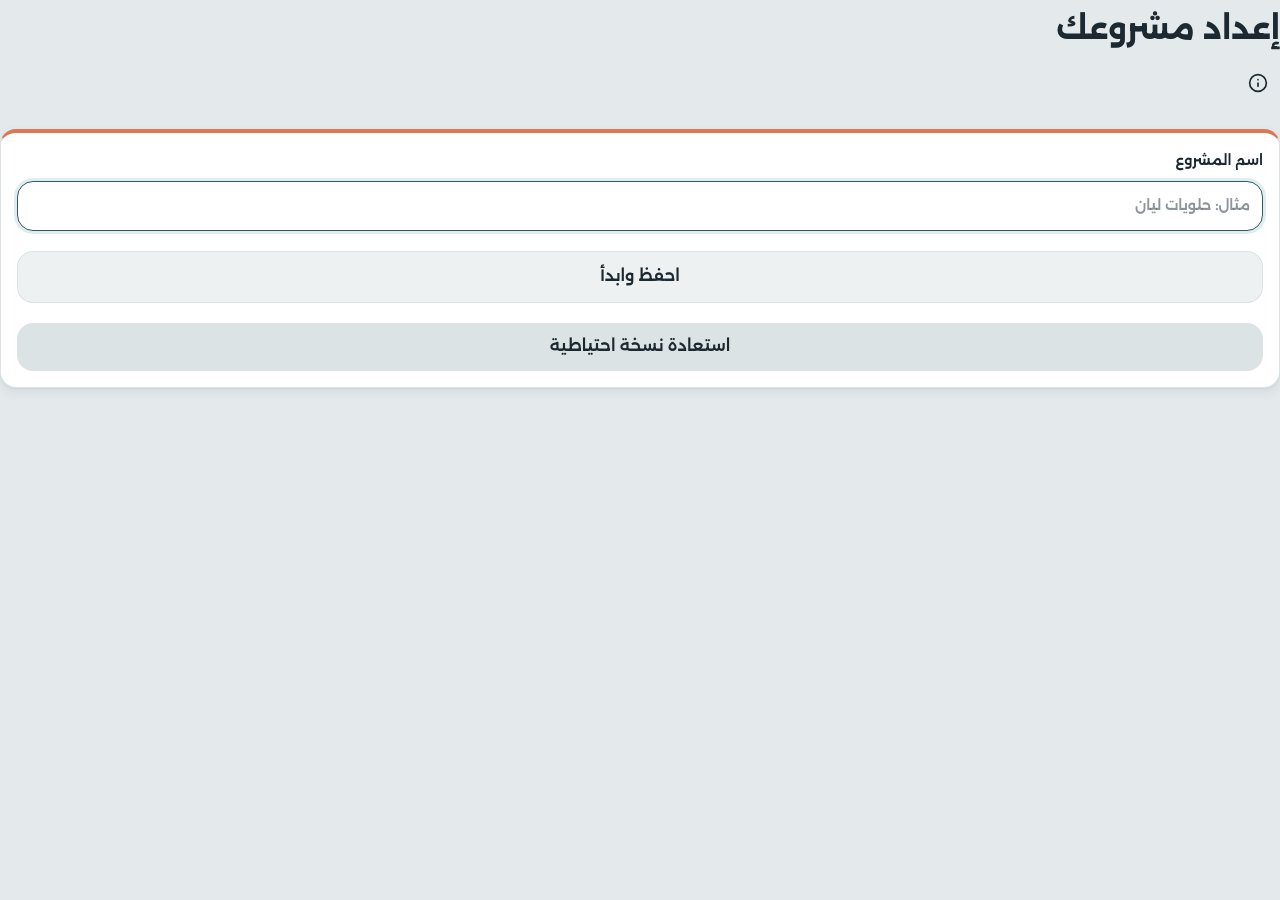
Test: UNIT-001 info dialog — library modal, read-only, focus contract (R08/AC08) › opens the approved texts and moves focus in; Escape closes and returns focus as it was
Click the button named "معلومات الإعداد وحفظ البيانات": (1258, 83) [1236,61,1279,105]
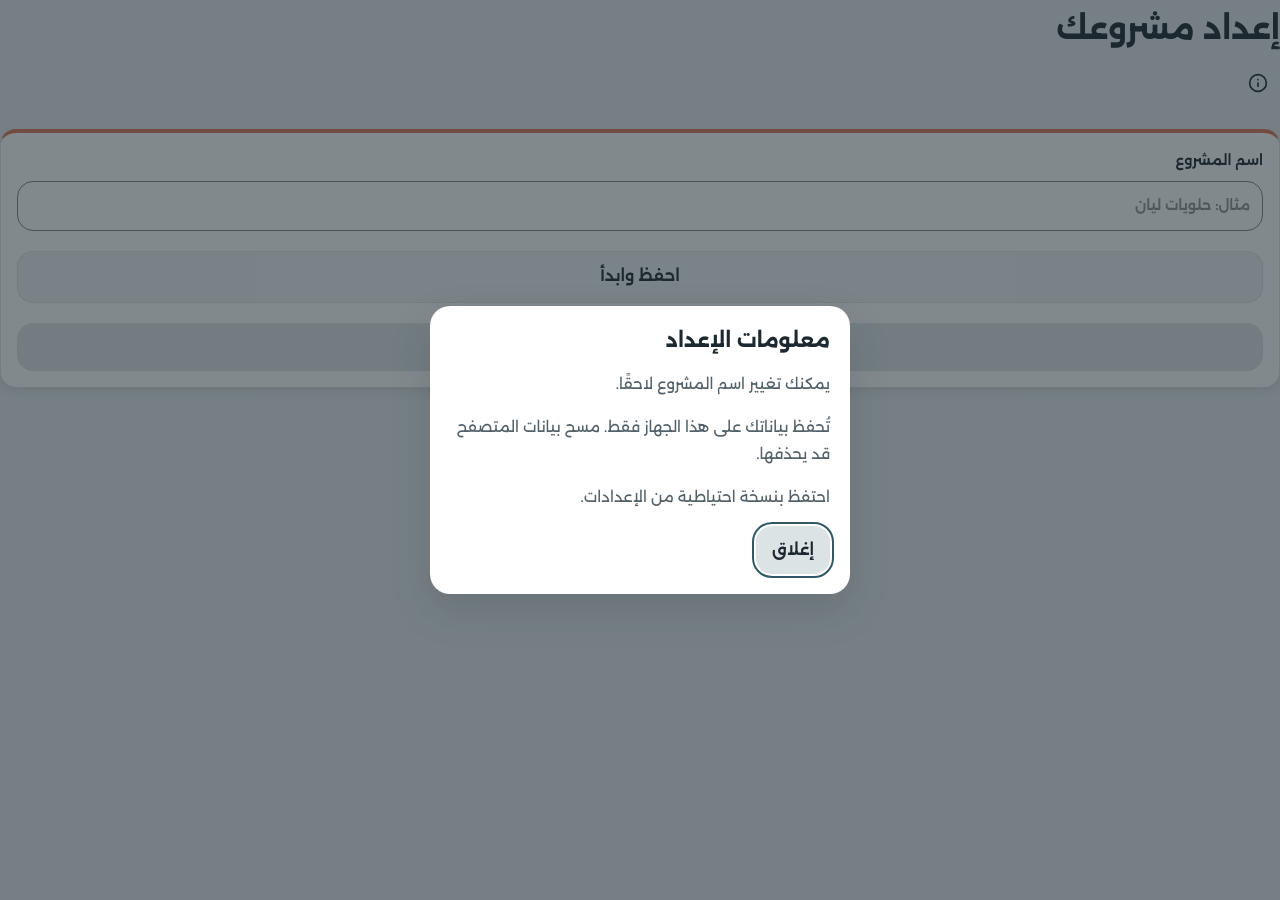
Check: the heading "معلومات الإعداد" is shown, box [666,328,830,352]
Check: the text "يمكنك تغيير اسم المشروع لاحقًا." is shown, box [616,374,830,393]
Check: the text "تُحفظ بياناتك على هذا الجهاز فقط. مسح بيانات المتصفح قد يحذفها." is shown, box [450,413,830,467]
Press Escape
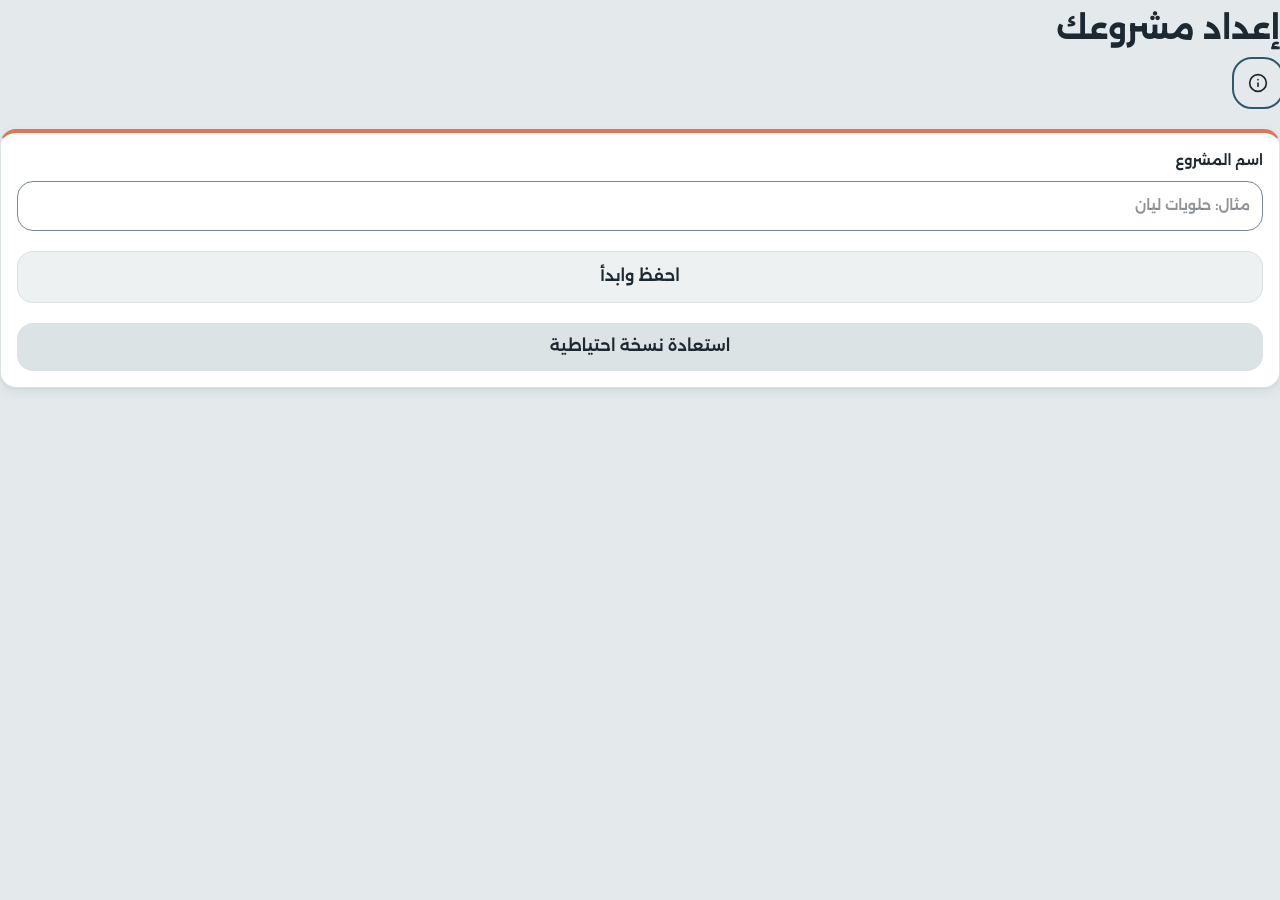
Check: the dialog with test id "setup-info-dialog" is gone
Click the button named "معلومات الإعداد وحفظ البيانات": (1258, 83) [1236,61,1279,105]
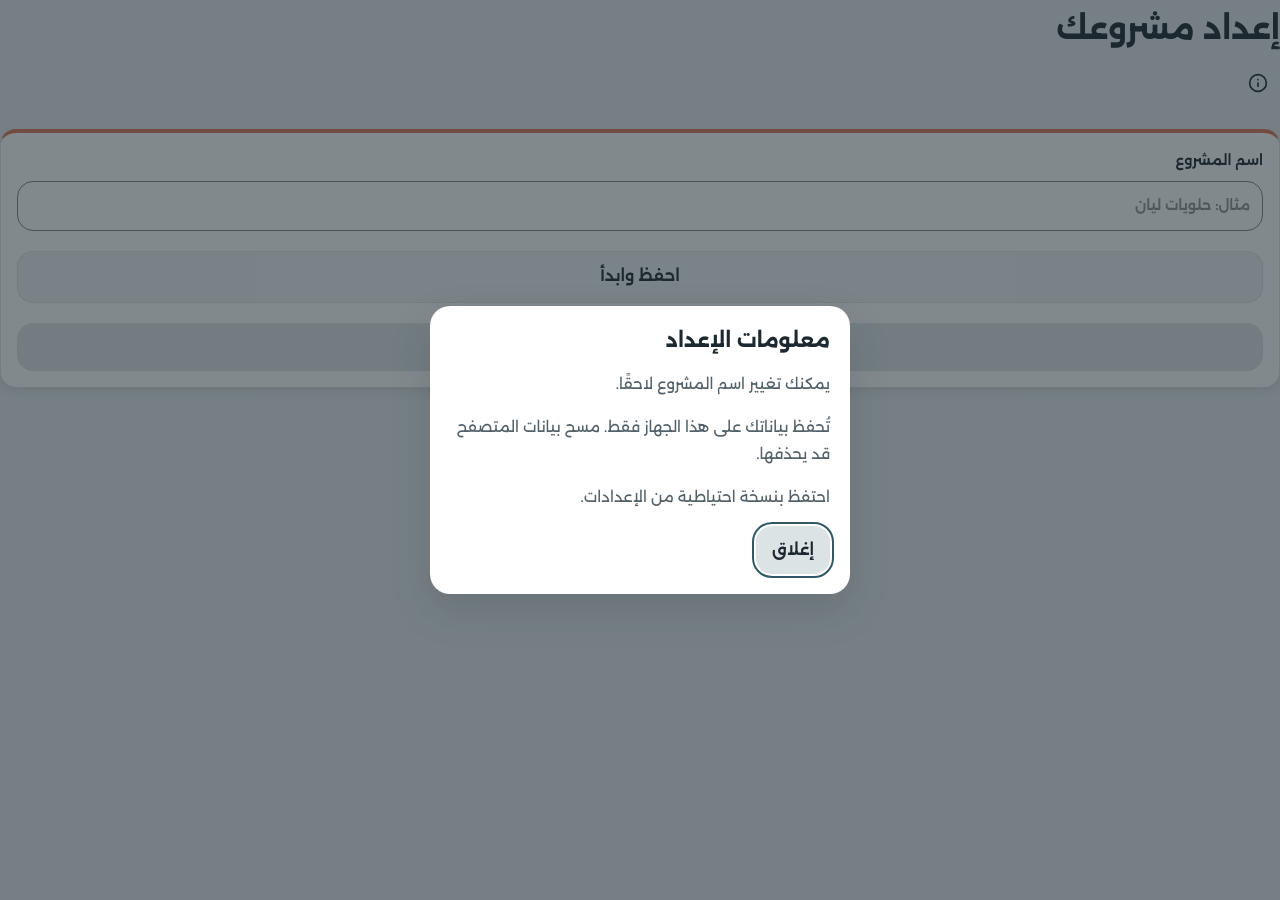
Check: the dialog with test id "setup-info-dialog" is shown, box [430,306,850,594]
Press Escape
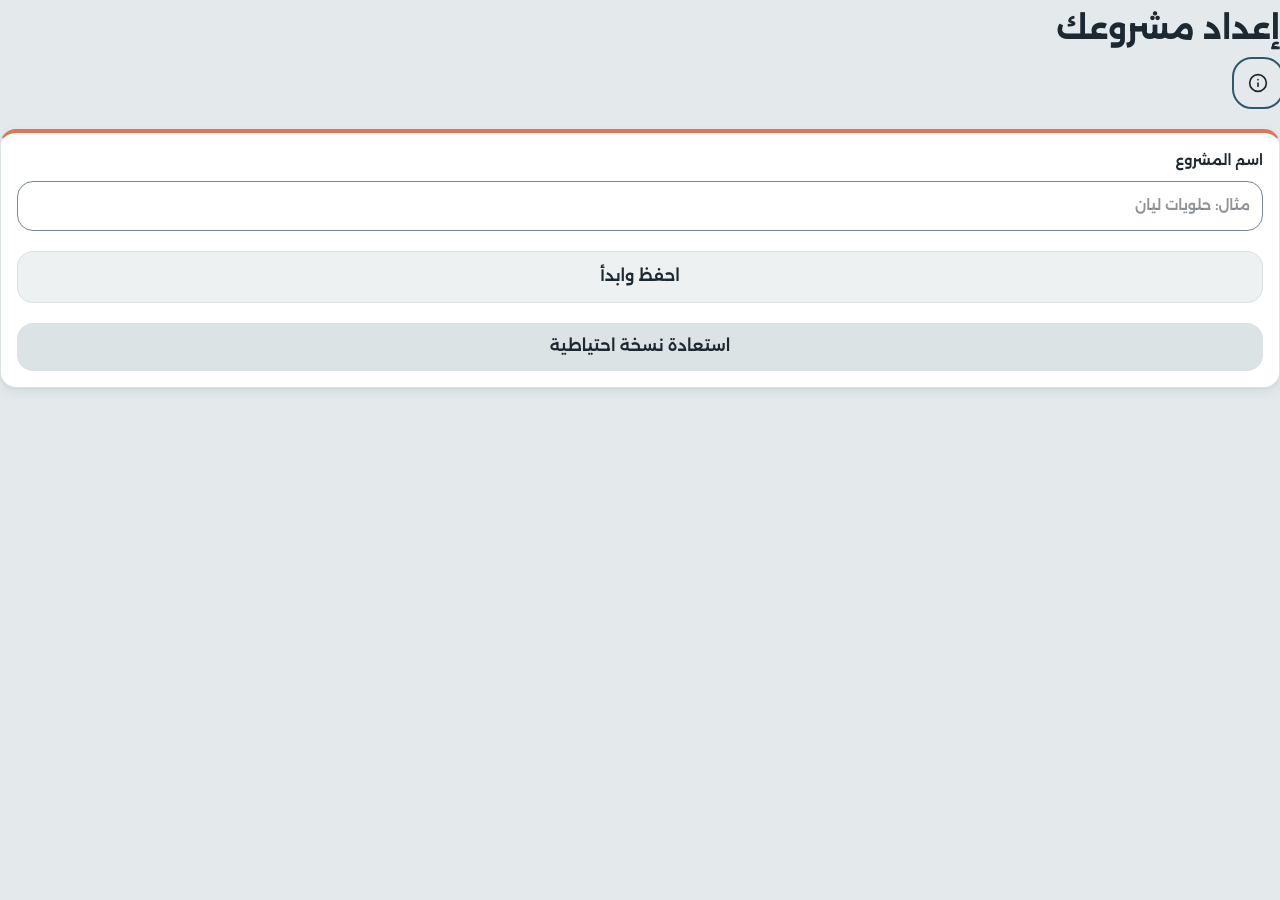
Check: the dialog with test id "setup-info-dialog" is gone
